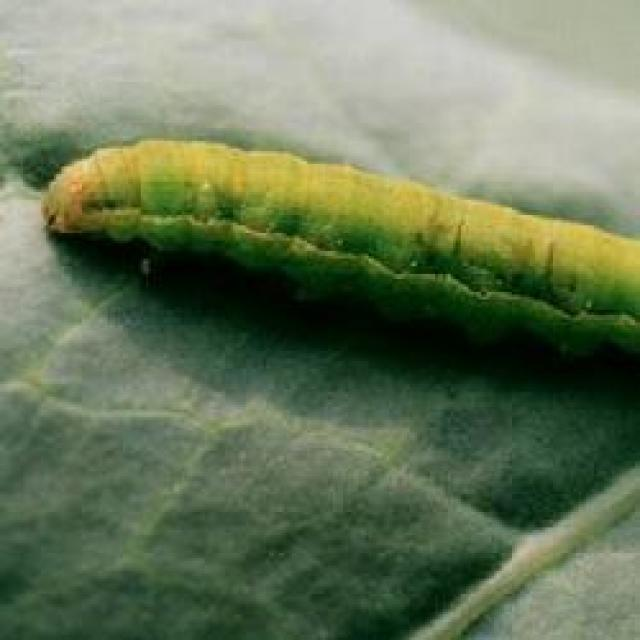armyworm: (38, 137, 640, 359)
